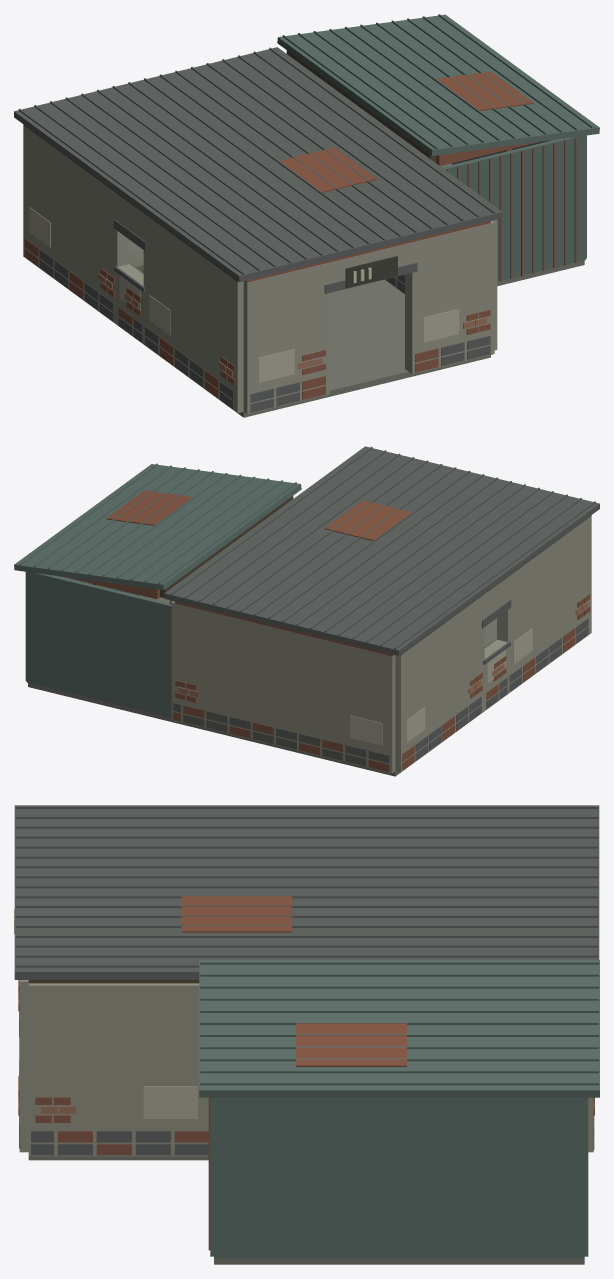
The model's file is FSA_ENV_Quarantine_Building_03_Spliced.glb.
3 views of the same model, one above another, from view 1: azimuth 30°, elevation 25°; view 2: azimuth 150°, elevation 25°; view 3: azimuth 270°, elevation 25° (orthographic). The views are drawn at different scales.
Parts seen in each view (by area): view 1: Roof_Main, Roof_Addition, Cladding_16, WestRight, WestLeft, FrontRight, FrontLeft, Floor_Main, RoofPatch_229, RoofPatch_241, FrontLintel, Sign_35 (+32 smaller); view 2: Roof_Main, Back, Cladding_0, Roof_Addition, WestLeft, WestRight, RoofPatch_229, RoofPatch_241, Floor_Main, Repair_133, Floor_Extension, RoofRib_212 (+29 smaller); view 3: Roof_Main, ExtensionEast, Roof_Addition, Notch, RoofPatch_241, RoofPatch_229, Floor_Extension, RoofRib_215, RoofRib_216, RoofRib_217, RoofRib_219, RoofRib_220 (+29 smaller).
Boxes of the visible parts, <box> form: Roof_Main: <box>14,47,502,282</box>; Roof_Addition: <box>277,14,599,156</box>; Cladding_16: <box>442,135,585,281</box>; WestRight: <box>143,213,243,413</box>; WestLeft: <box>23,125,129,324</box>; FrontRight: <box>405,221,494,373</box>; FrontLeft: <box>243,262,329,414</box>; Floor_Main: <box>129,240,490,417</box>; RoofPatch_229: <box>279,147,376,192</box>; RoofPatch_241: <box>436,71,533,110</box>; FrontLintel: <box>329,242,412,283</box>; Sign_35: <box>345,256,397,288</box>; Roof_Main: <box>164,446,599,655</box>; Back: <box>171,601,395,773</box>; Cladding_0: <box>26,572,171,717</box>; Roof_Addition: <box>14,464,301,590</box>; WestLeft: <box>395,594,484,772</box>; WestRight: <box>497,516,591,693</box>; RoofPatch_229: <box>324,500,411,540</box>; RoofPatch_241: <box>106,490,192,525</box>; Floor_Main: <box>175,618,496,776</box>; Repair_133: <box>350,715,382,745</box>; Floor_Extension: <box>28,683,174,722</box>; RoofRib_212: <box>394,501,595,649</box>; Roof_Main: <box>14,805,599,979</box>; ExtensionEast: <box>214,1097,584,1258</box>; Roof_Addition: <box>199,960,599,1097</box>; Notch: <box>28,983,208,1156</box>; RoofPatch_241: <box>296,1023,406,1066</box>; RoofPatch_229: <box>181,896,292,932</box>; Floor_Extension: <box>214,1258,584,1264</box>; RoofRib_215: <box>15,835,598,838</box>; RoofRib_216: <box>15,845,598,848</box>; RoofRib_217: <box>15,855,598,858</box>; RoofRib_219: <box>15,875,598,878</box>; RoofRib_220: <box>15,885,598,888</box>.
Bounding box in the file's own units: 10.48 × 3.68 × 9.49.
